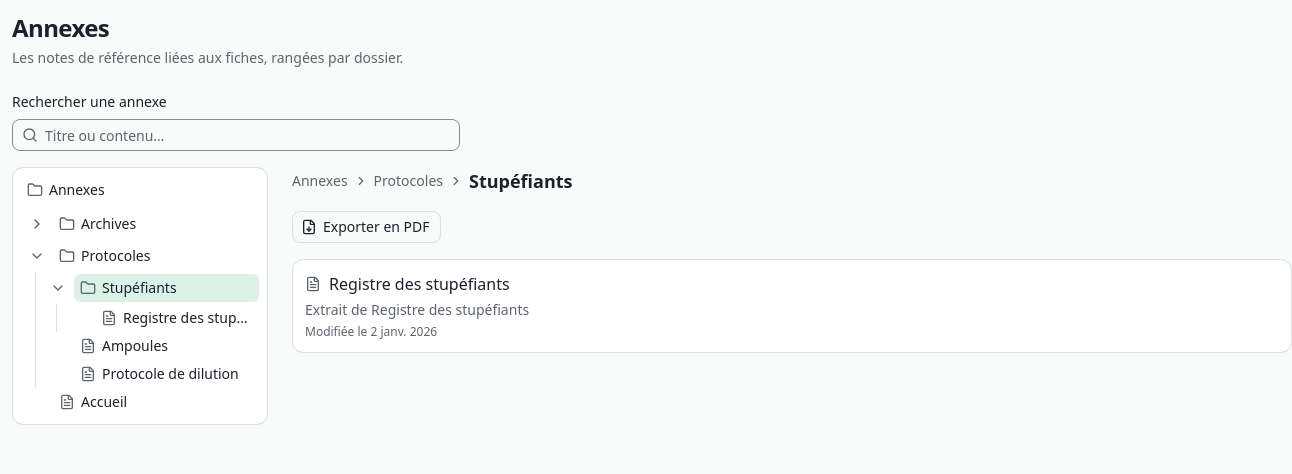
Test: Annexes page › builds the tree from the flat payload: sub-folders before notes, alphabetical
What coordinates should you click on to do the following:
click the button named "Déplier Archives"
I would click on:
 (37, 224)
Its box is [21, 208, 53, 240].
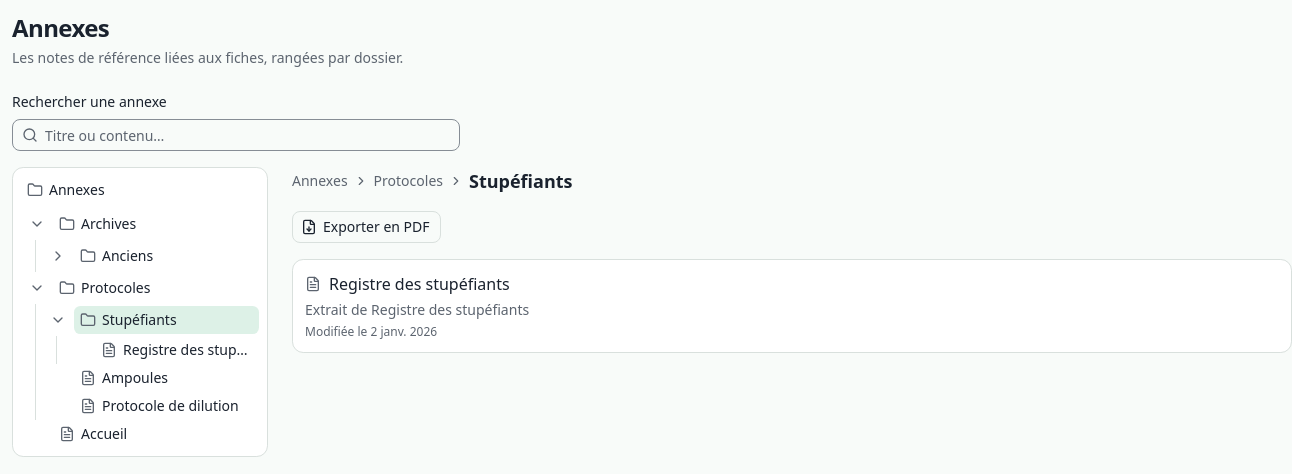
Expected: the button named "Replier Archives" is expanded, [21, 208, 53, 240]
Expected: the link "Anciens" is shown, [80, 246, 153, 265]
